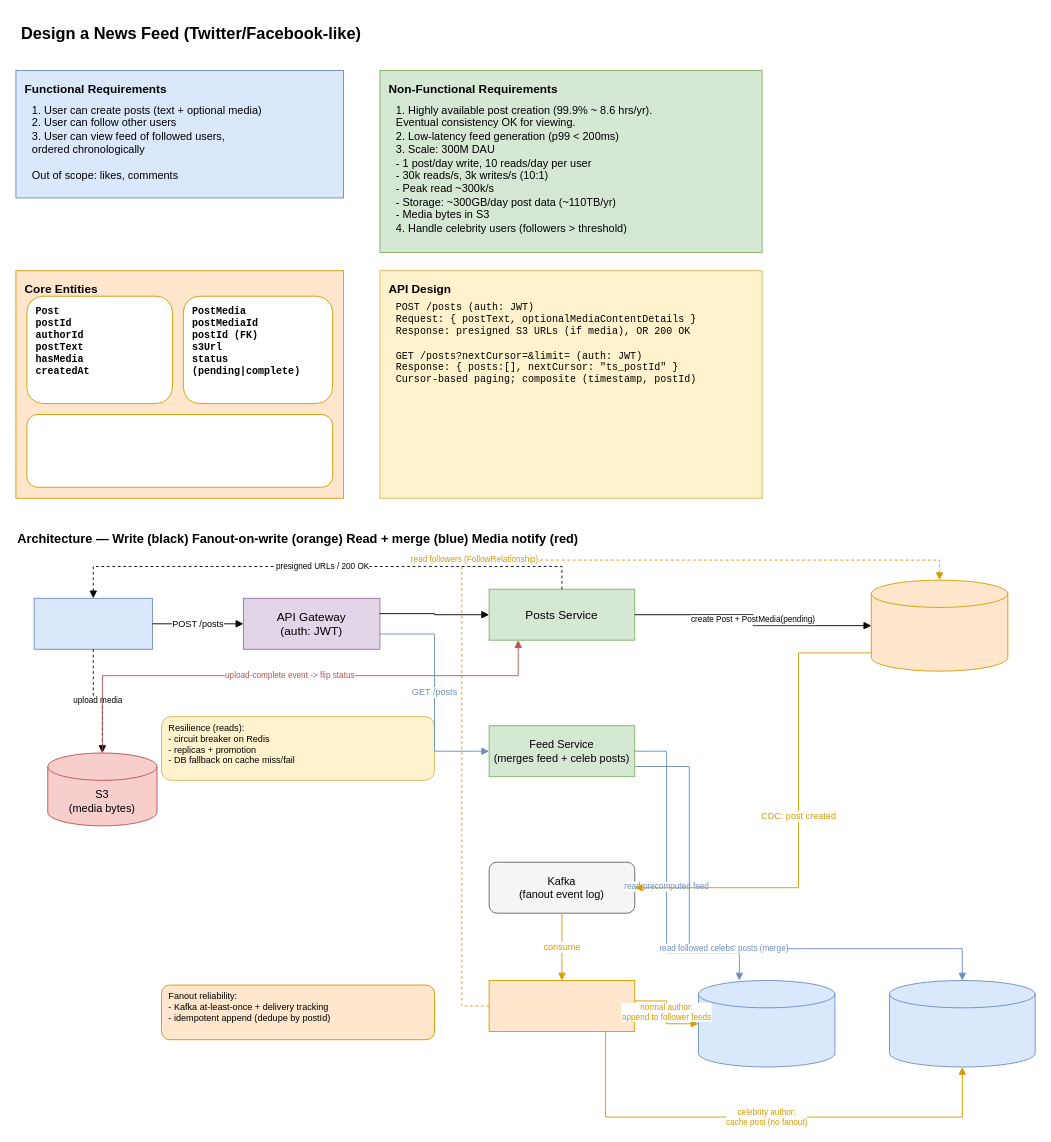
Some shapes in this 1051 by 1142 pixel diagram are drawn without their labels. Here are the shapes that lost their labels. From the top down, the centre of each, then its label:
point 179,450: FollowRelationship followerId (A, follows) followeeId (B, followed)
point 92,623: Client
point 939,625: Posts DB (Post, PostMedia, FollowRelationship)
point 561,1005: Fanout Workers (branch: normal vs celebrity)
point 766,1023: PrecomputedFeed (Redis, per-user feed list)
point 962,1023: Celebrity Posts Cache (Redis, per-celeb recent posts)
